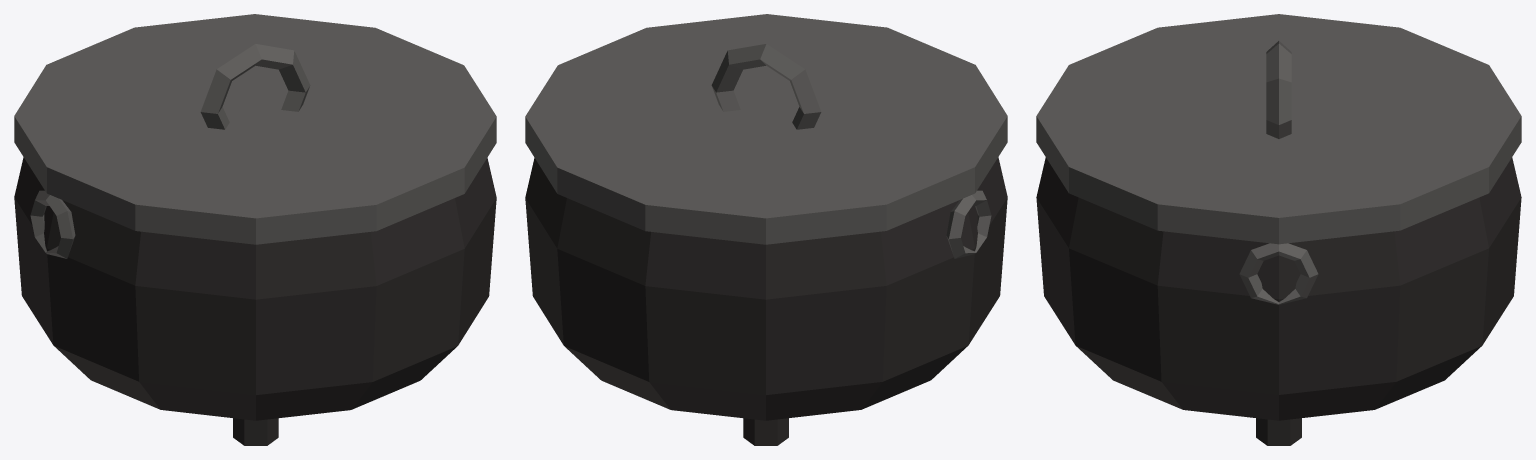
Rendered from DutchOven.fbx.
The picture shows the model from 3 angles, left to right: view 1: azimuth 30°, elevation 25°; view 2: azimuth 150°, elevation 25°; view 3: azimuth 270°, elevation 25°; orthographic projection.
Visible parts, largest first — view 1: DutchOven; view 2: DutchOven; view 3: DutchOven.
Boxes of the visible parts, bbox=[...] form: DutchOven: bbox=[14, 14, 496, 445]; DutchOven: bbox=[525, 14, 1007, 445]; DutchOven: bbox=[1036, 14, 1521, 445].
Bounding box in the file's own units: 2 × 1.5 × 2.
